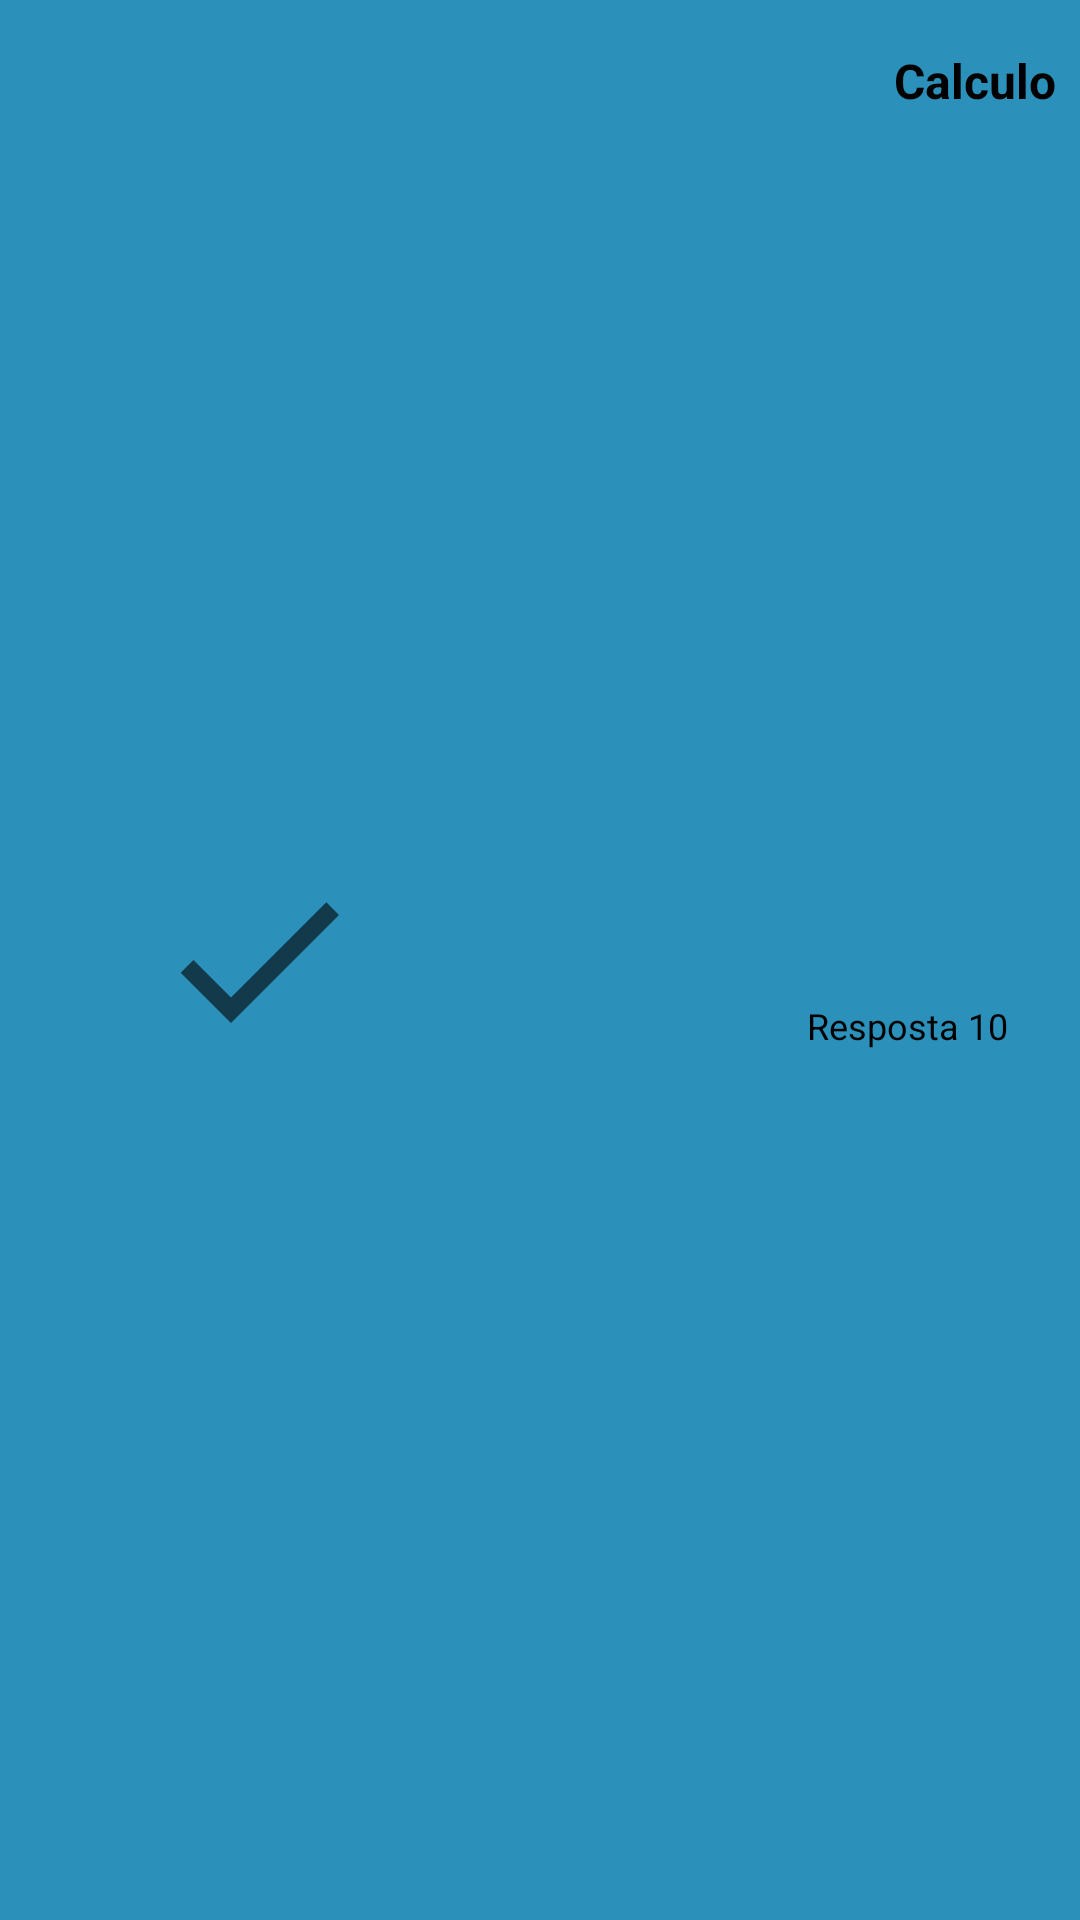

Point at icon controls on the screen. Image size 1080 × 1920, points as point (x, y).
acerto: point (260, 962)
